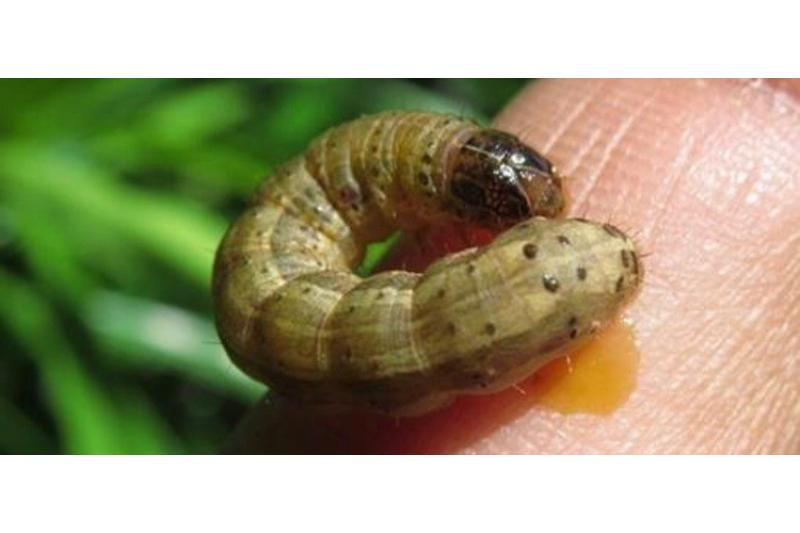fall-armyworm: (210, 111, 642, 420)
